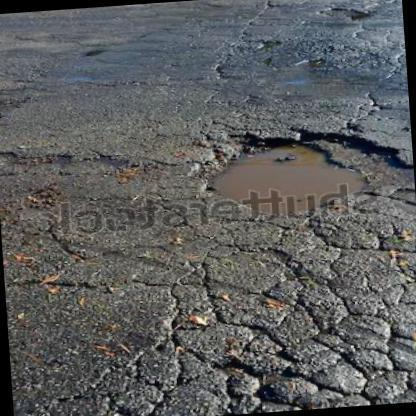pothole: (199, 128, 416, 225), (185, 325, 416, 416)
